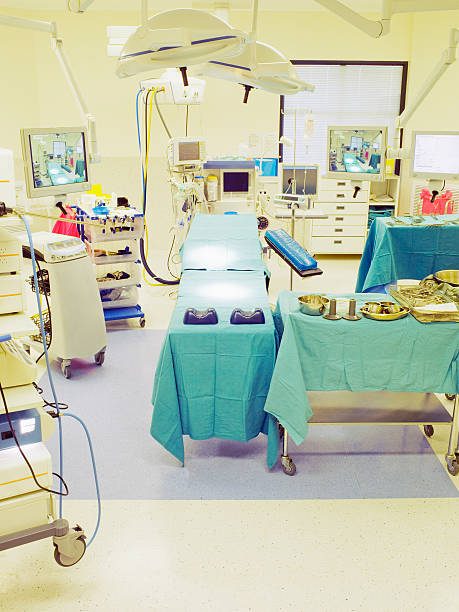bedside_monitor: (23, 129, 91, 192), (325, 128, 388, 184), (408, 126, 459, 177), (212, 170, 258, 197), (280, 166, 319, 196), (175, 140, 201, 165)
medical_drawer: (312, 177, 364, 262)
operating_bed: (155, 201, 279, 451)
surgical_instrument: (305, 268, 459, 328), (382, 207, 459, 229)
surgical_light: (114, 14, 249, 82), (187, 39, 317, 98)
utility_cart: (273, 284, 459, 474), (78, 195, 137, 335), (364, 206, 459, 284)
